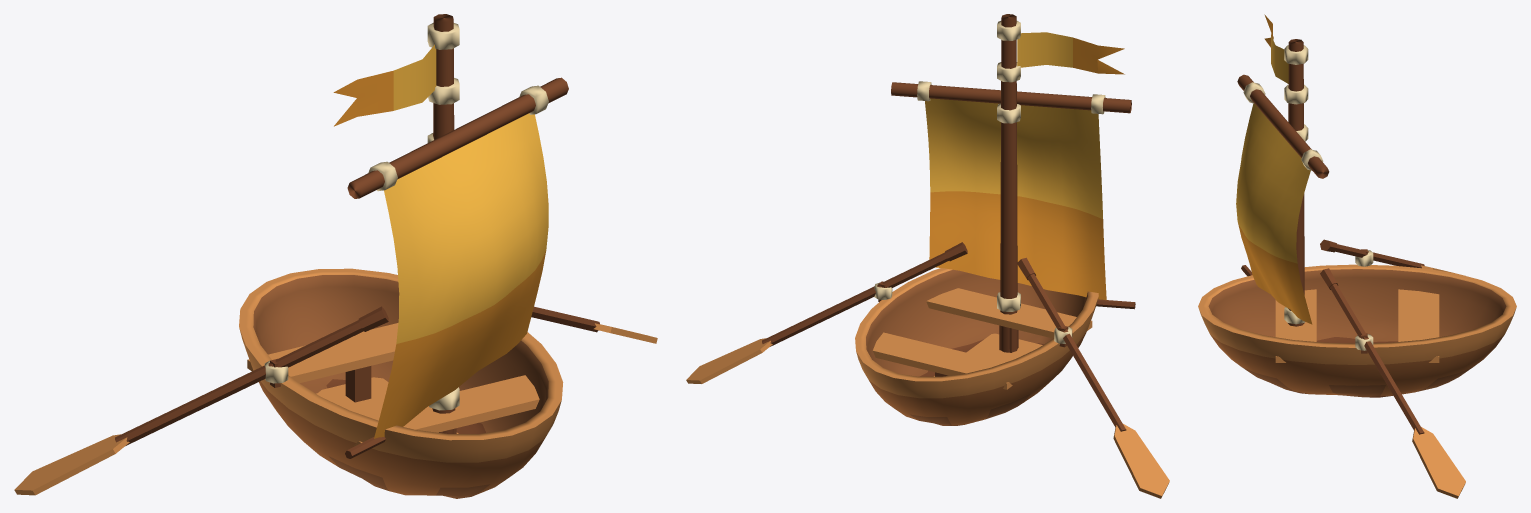
The model's file is small_boat.fbx.
3 renders of one model, left to right at view 1: azimuth 30°, elevation 25°; view 2: azimuth 150°, elevation 25°; view 3: azimuth 270°, elevation 25°, orthographic. The views are drawn at different scales.
Parts seen in each view (by area): view 1: small_boat; view 2: small_boat; view 3: small_boat.
Boxes of the visible parts, left/top/right/bottom form: small_boat: left=14, top=14, right=657, bottom=498; small_boat: left=686, top=14, right=1169, bottom=498; small_boat: left=1198, top=14, right=1516, bottom=498.
Bounding box in the file's own units: 53.68 × 39.04 × 32.55.
1 material, 1 textured.
